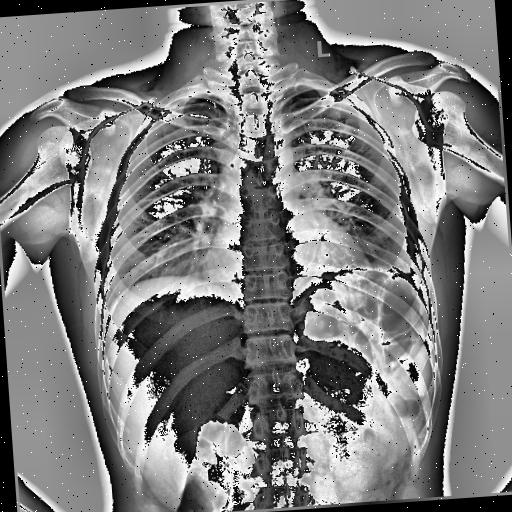10- Pleural effusion: (398, 216, 428, 286), (400, 245, 426, 290)
11- Pleural thickening: (398, 216, 428, 286), (400, 245, 426, 290)
3- Cardiomegaly: (201, 225, 376, 293)
6- Infiltration: (329, 116, 358, 142), (338, 118, 356, 139)
7- Lung Opacity: (329, 116, 358, 142), (338, 118, 356, 139)
